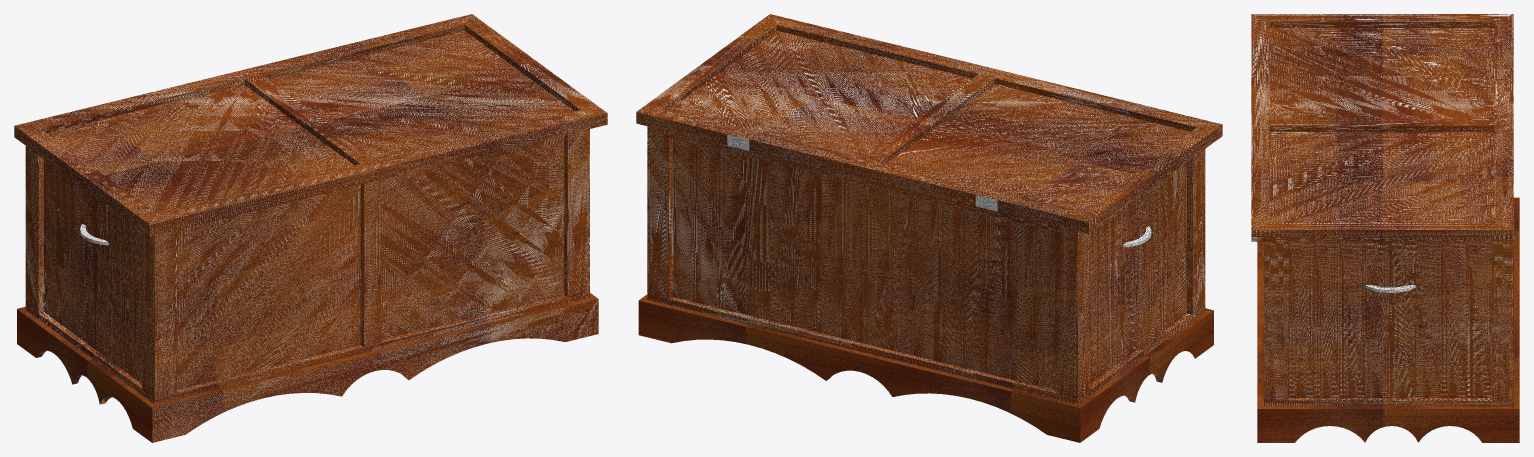
3 renders of one model, left to right at view 1: azimuth 30°, elevation 25°; view 2: azimuth 150°, elevation 25°; view 3: azimuth 270°, elevation 25°, orthographic. The views are drawn at different scales.
Visible parts, largest first — view 1: mesh1_mesh1-geometry; view 2: mesh1_mesh1-geometry; view 3: mesh1_mesh1-geometry.
Boxes of the visible parts, <box> form: mesh1_mesh1-geometry: <box>14,14,607,442</box>; mesh1_mesh1-geometry: <box>636,14,1222,442</box>; mesh1_mesh1-geometry: <box>1251,14,1519,442</box>.
Bounding box in the file's own units: 0.8193 × 0.3797 × 0.4296.
